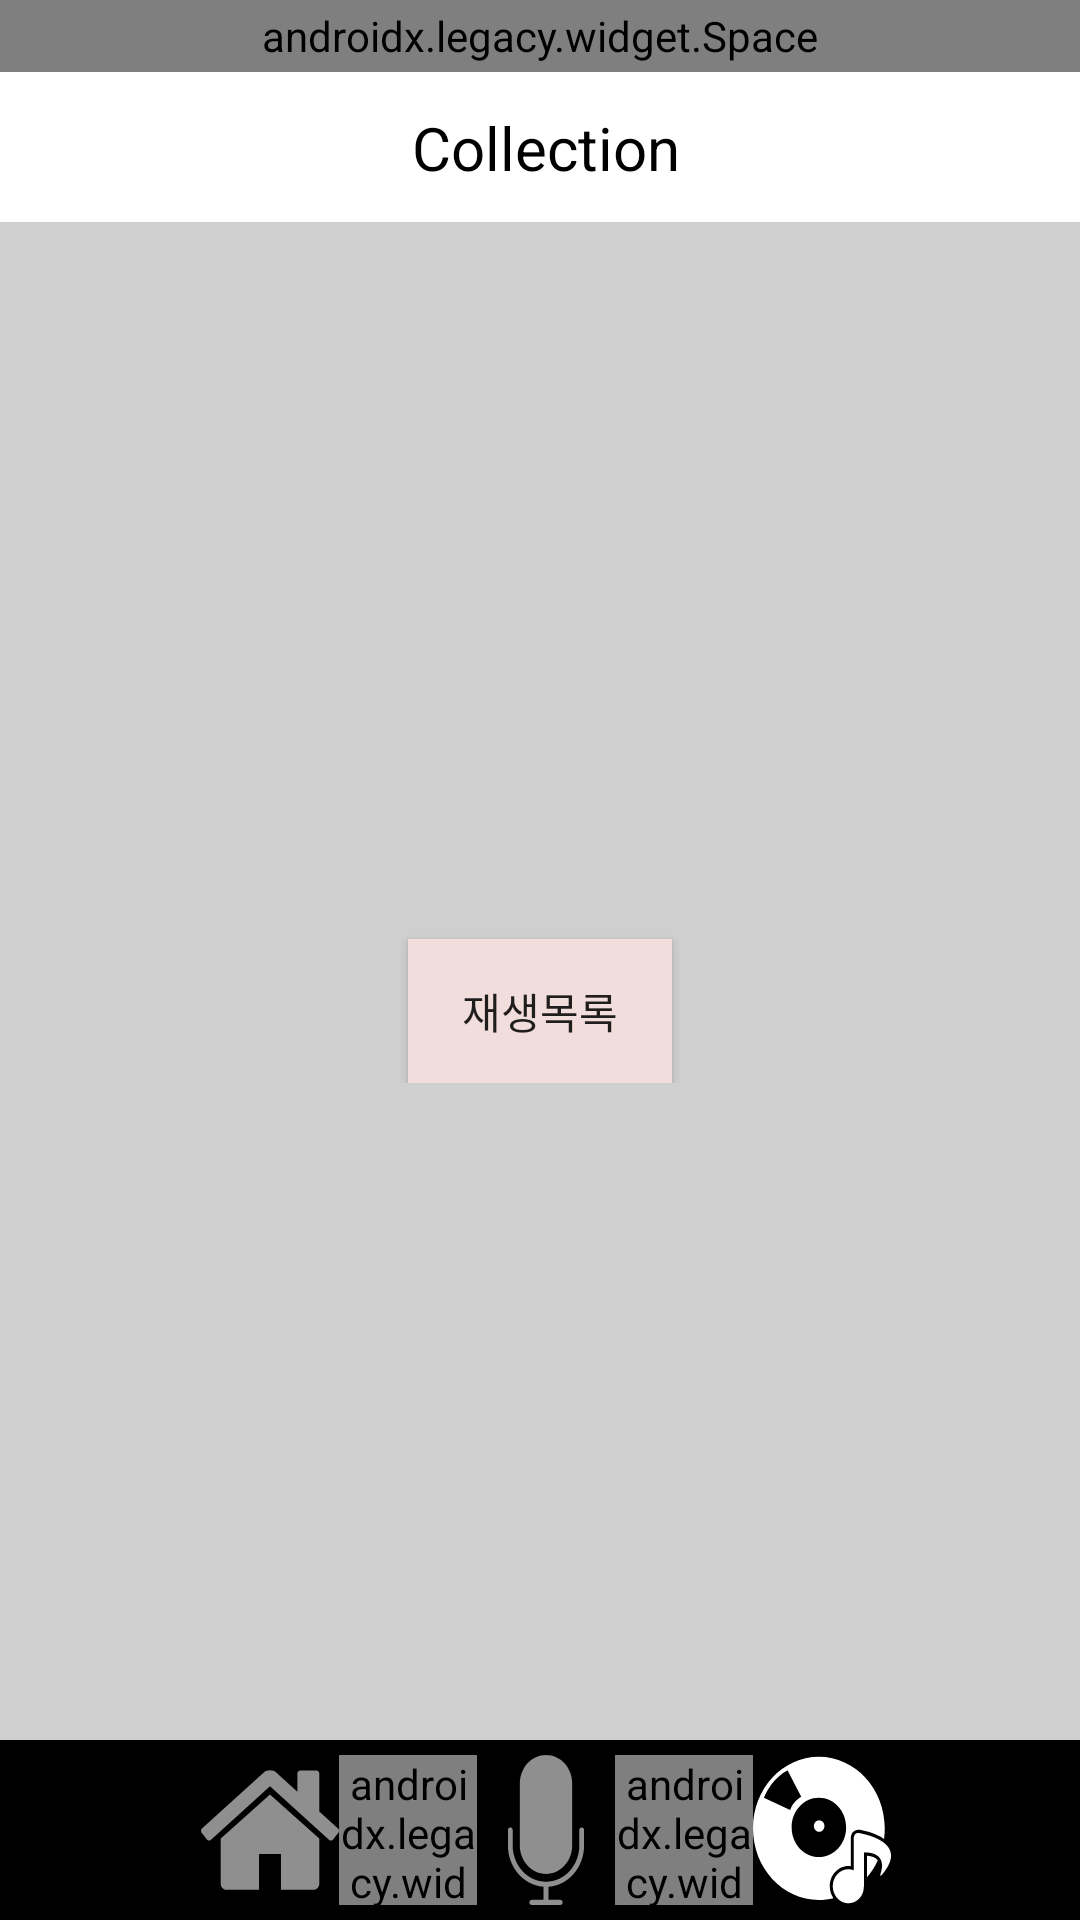

Where to tap for icons on this 1080x1920 app screen, as (x,y):
home: (270,1842)
microphone: (546,1830)
music album clicked: (822,1830)
